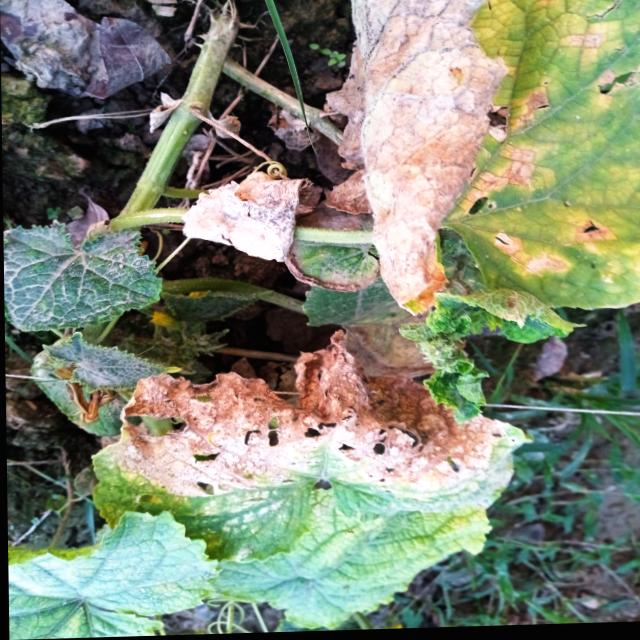Bacterial-Wilt: (180, 169, 313, 266)
